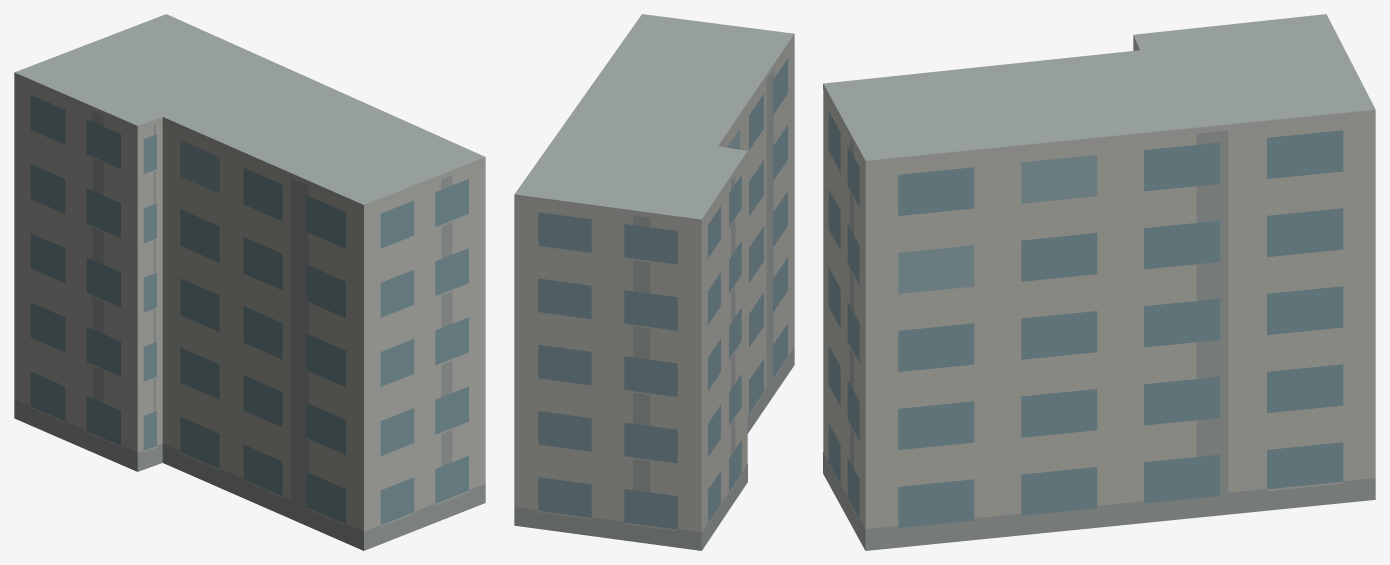
File: survey-upis-32798982.glb
3 renders of one model, left to right at view 1: azimuth 30°, elevation 25°; view 2: azimuth 150°, elevation 25°; view 3: azimuth 270°, elevation 25°, orthographic. The views are drawn at different scales.
Visible parts, largest first — view 1: survey-upis-32798982.tmp; view 2: survey-upis-32798982.tmp; view 3: survey-upis-32798982.tmp.
Boxes of the visible parts, bbox=[...] form: survey-upis-32798982.tmp: bbox=[14, 14, 485, 550]; survey-upis-32798982.tmp: bbox=[514, 14, 794, 550]; survey-upis-32798982.tmp: bbox=[823, 14, 1375, 550].
Bounding box in the file's own units: 12.76 × 15.8 × 20.29.
